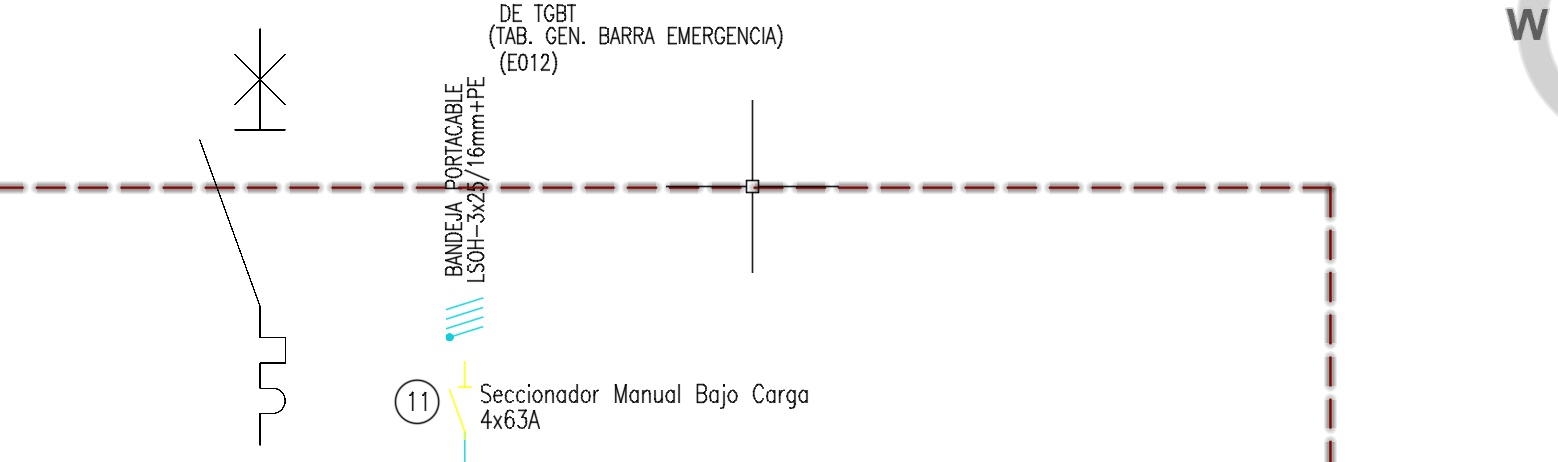interruptor_termomagnetico: (189, 18, 296, 456)
